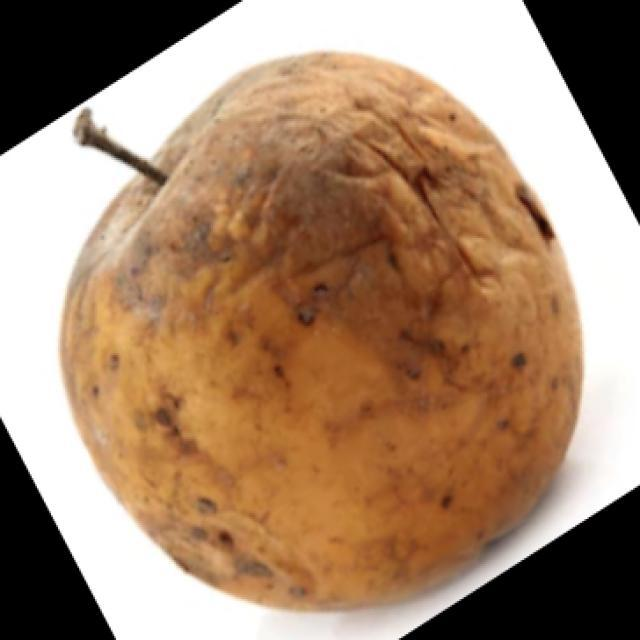Rotten: (87, 60, 598, 595)
